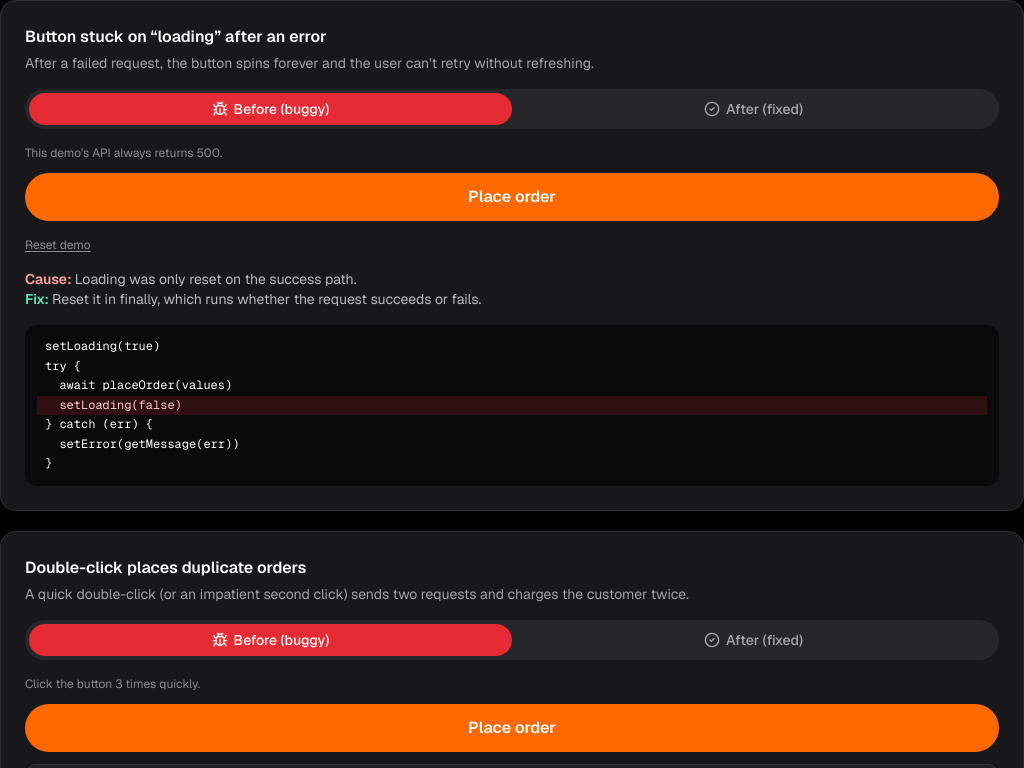
it: Bug: double submit › buggy version creates one order per click
Click the button "Place order" below "Click the button 3 times quickly." at {"x": 512, "y": 728}, box left=25, top=704, right=999, bottom=752
(page scrolled)
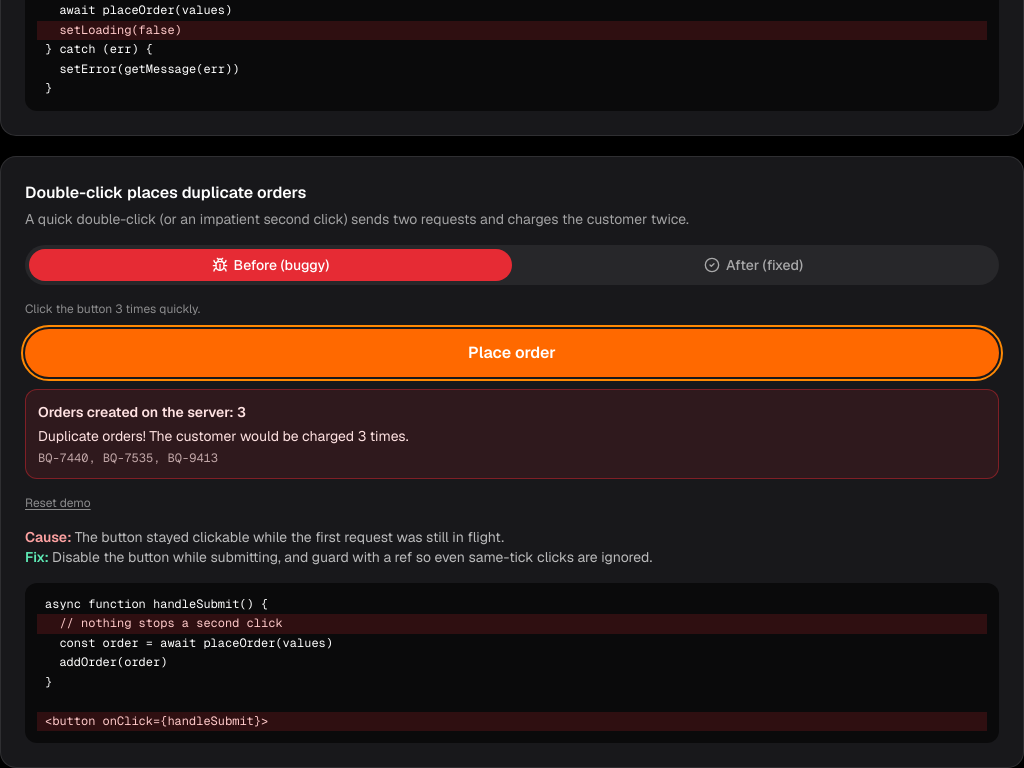
Check: the text with test id "order-count" reads "3", box left=237, top=402, right=246, bottom=420
Check: the text "Duplicate orders! The customer would be charged 3 times." is shown, box left=38, top=426, right=408, bottom=444
